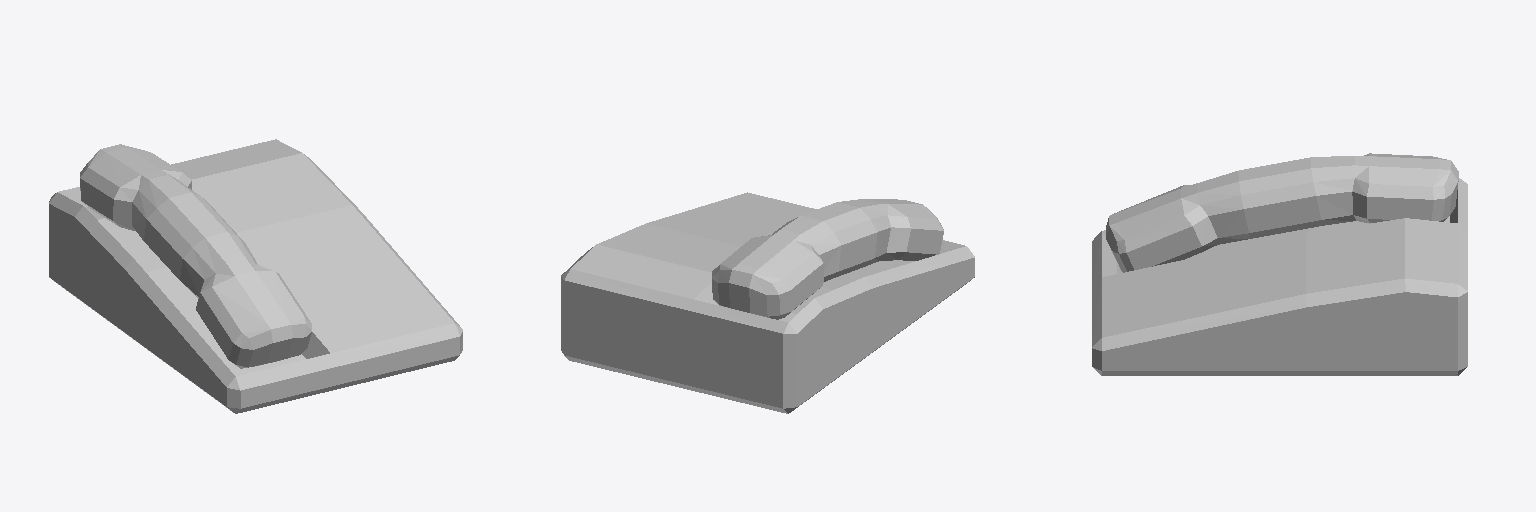
The model's file is SM_Telefono.obj.
3 renders of one model, left to right at view 1: azimuth 30°, elevation 25°; view 2: azimuth 150°, elevation 25°; view 3: azimuth 270°, elevation 25°, orthographic.
Visible parts, largest first — view 1: Telefono; view 2: Telefono; view 3: Telefono.
Boxes of the visible parts, <box> form: Telefono: <box>49,139,462,413</box>; Telefono: <box>561,192,974,413</box>; Telefono: <box>1092,153,1467,375</box>.
Size of the model in its own units: 22.61 by 12.09 by 31.17.